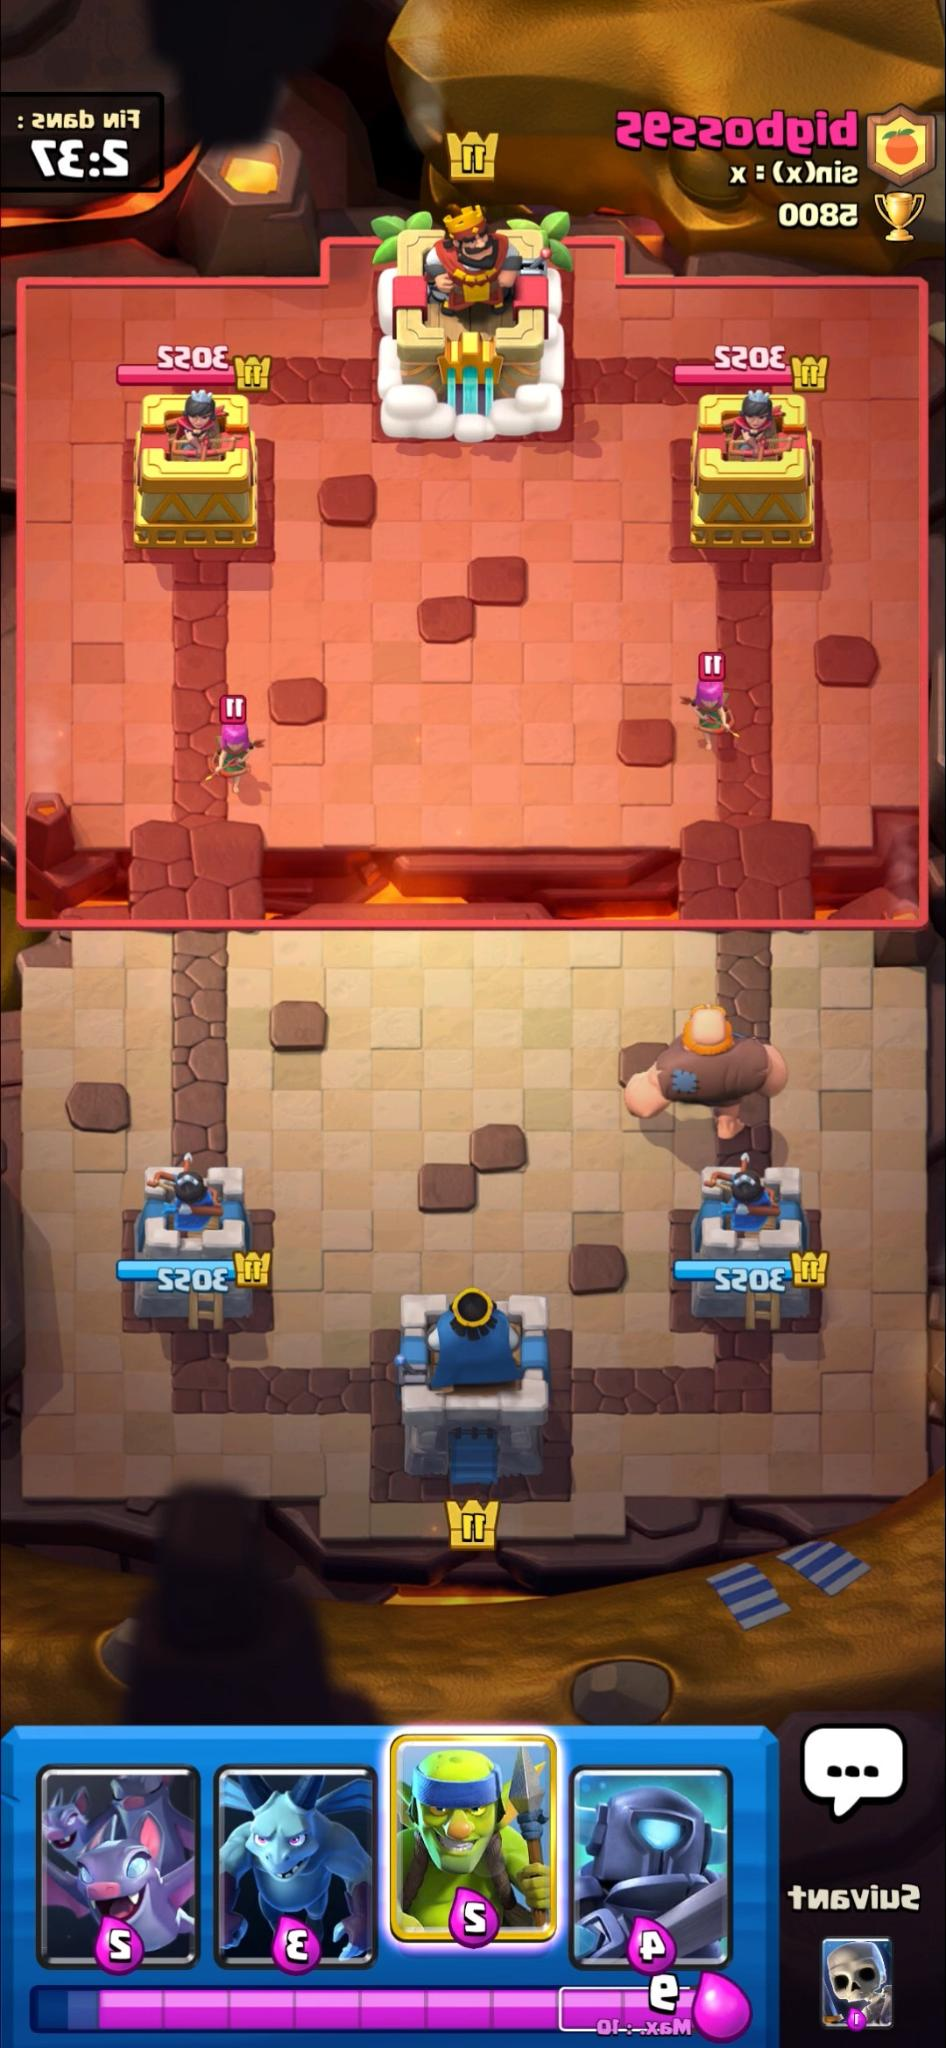archere: (193, 721, 264, 793), (673, 678, 742, 750)
geant: (625, 1003, 787, 1142)
